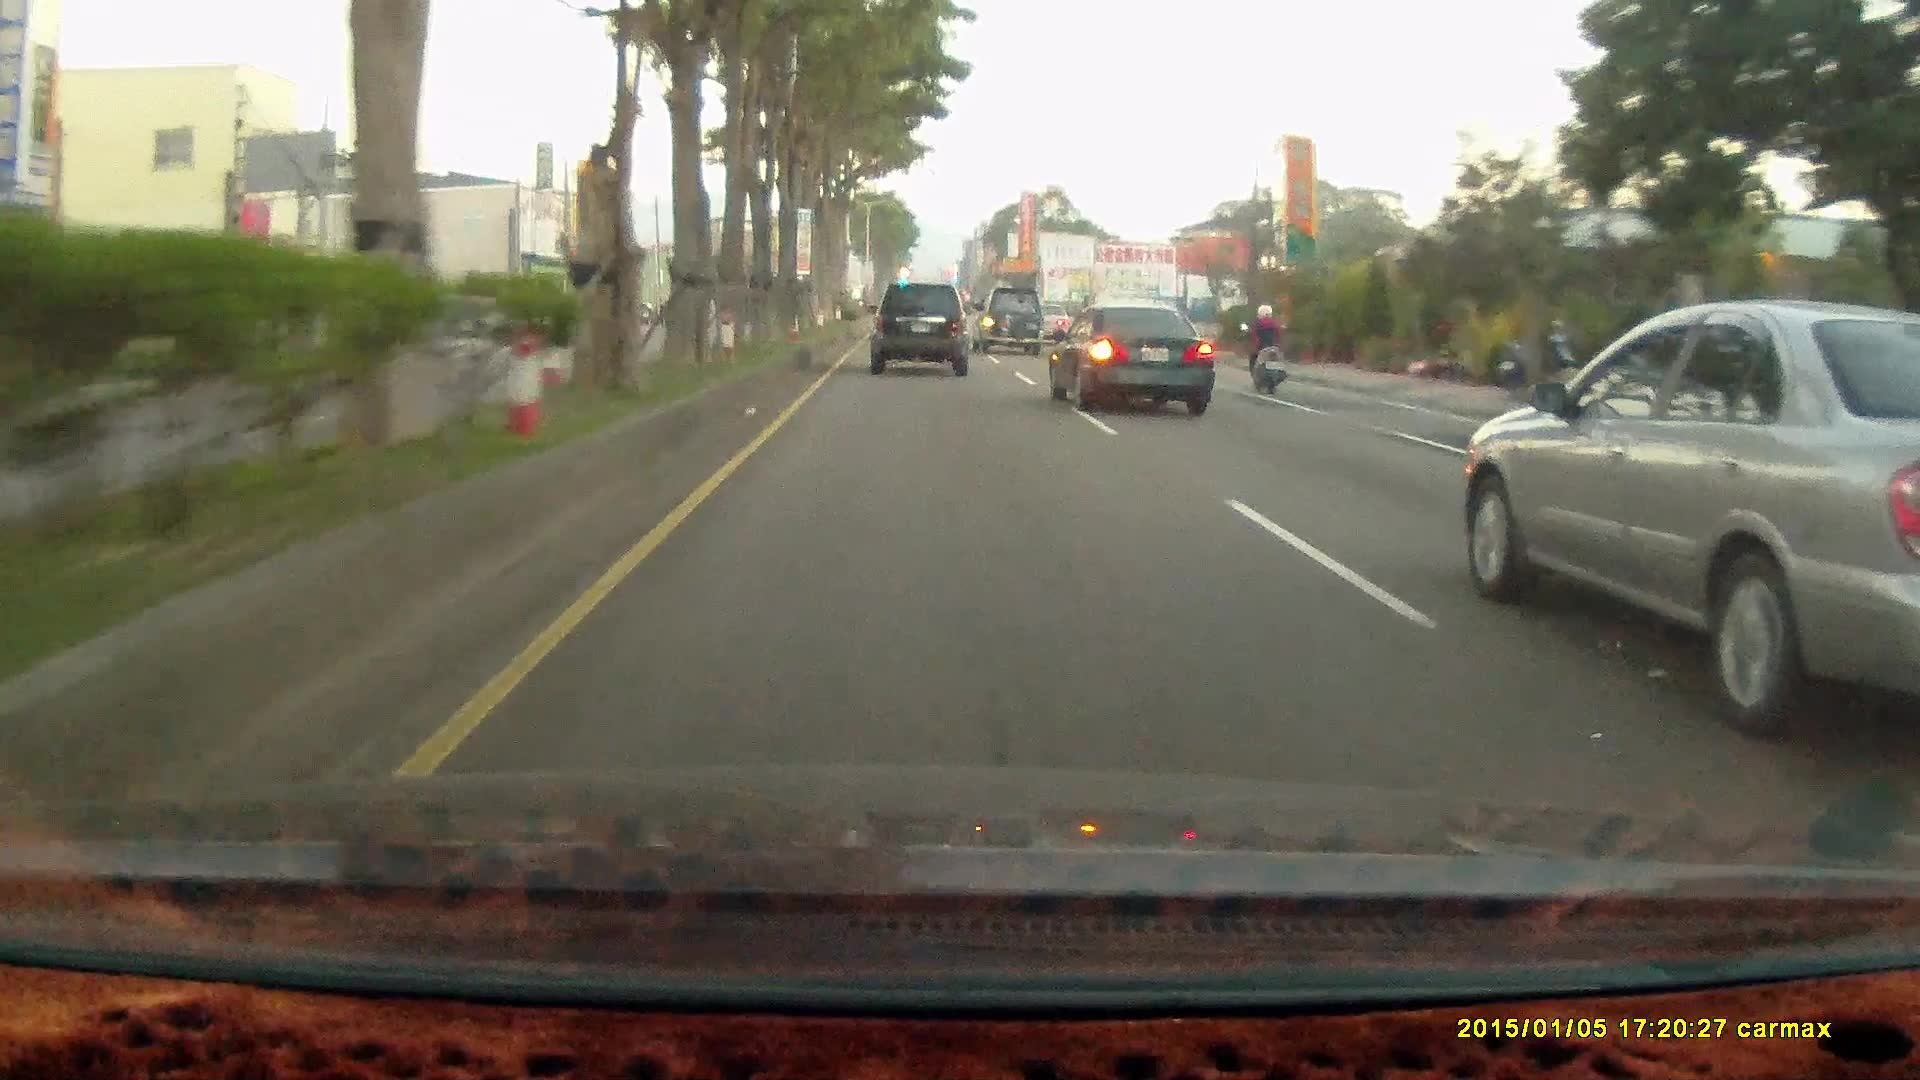rider: (1233, 293, 1298, 404), (1236, 300, 1289, 395)
vehicle: (1458, 297, 1915, 736), (1045, 302, 1219, 415), (1046, 302, 1214, 416), (865, 281, 977, 380), (865, 283, 967, 376), (976, 285, 1048, 358), (969, 284, 1040, 354)
